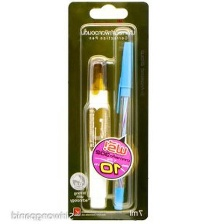book: (64, 0, 152, 222)
correction_fluid: (83, 56, 113, 210)
